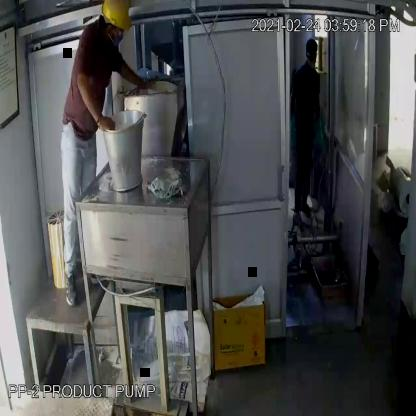helmet: (98, 1, 135, 39)
